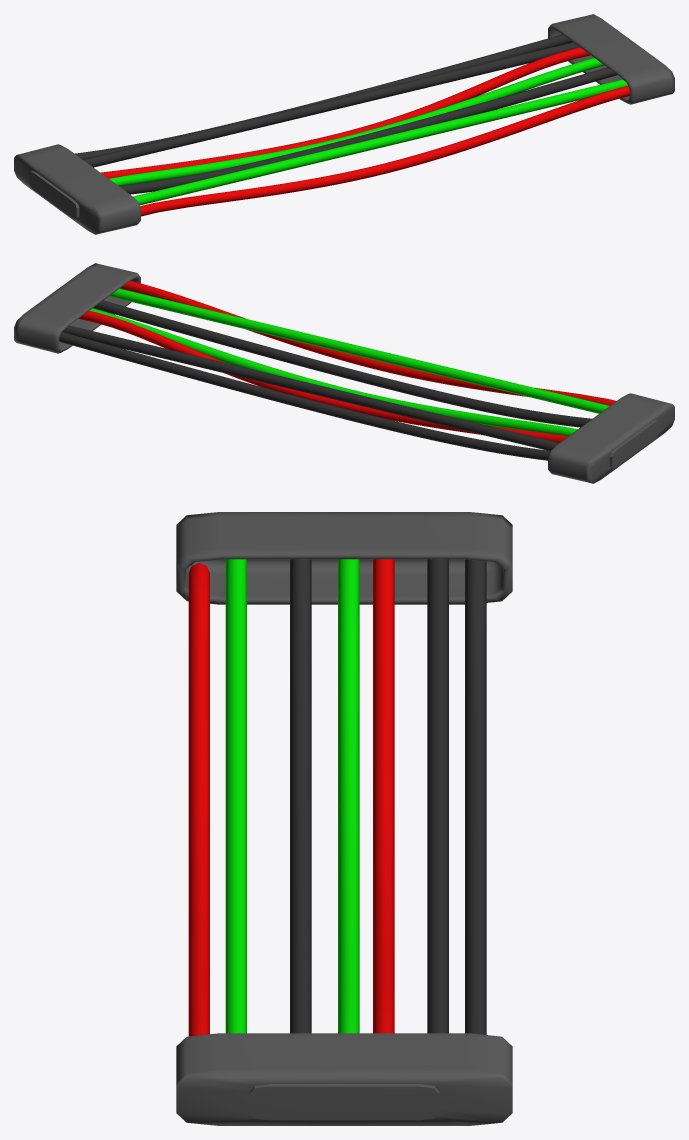
Rendered from WireRoof.fbx.
The picture shows the model from 3 angles, top to bottom: view 1: azimuth 30°, elevation 25°; view 2: azimuth 150°, elevation 25°; view 3: azimuth 270°, elevation 25°; orthographic projection. The views are drawn at different scales.
Parts seen in each view (by area): view 1: Wires, End2, End1; view 2: Wires, End2, End1; view 3: Wires, End1, End2.
Boxes of the visible parts, x1,y1,x2,y2 form: Wires: (75,34,629,216); End2: (14,144,140,234); End1: (548,14,674,104); Wires: (59,281,615,460); End2: (548,393,674,483); End1: (14,263,140,353); Wires: (188,559,486,1036); End1: (176,1033,512,1125); End2: (176,512,512,604).
Bounding box in the file's own units: 12.01 × 0.7957 × 3.
